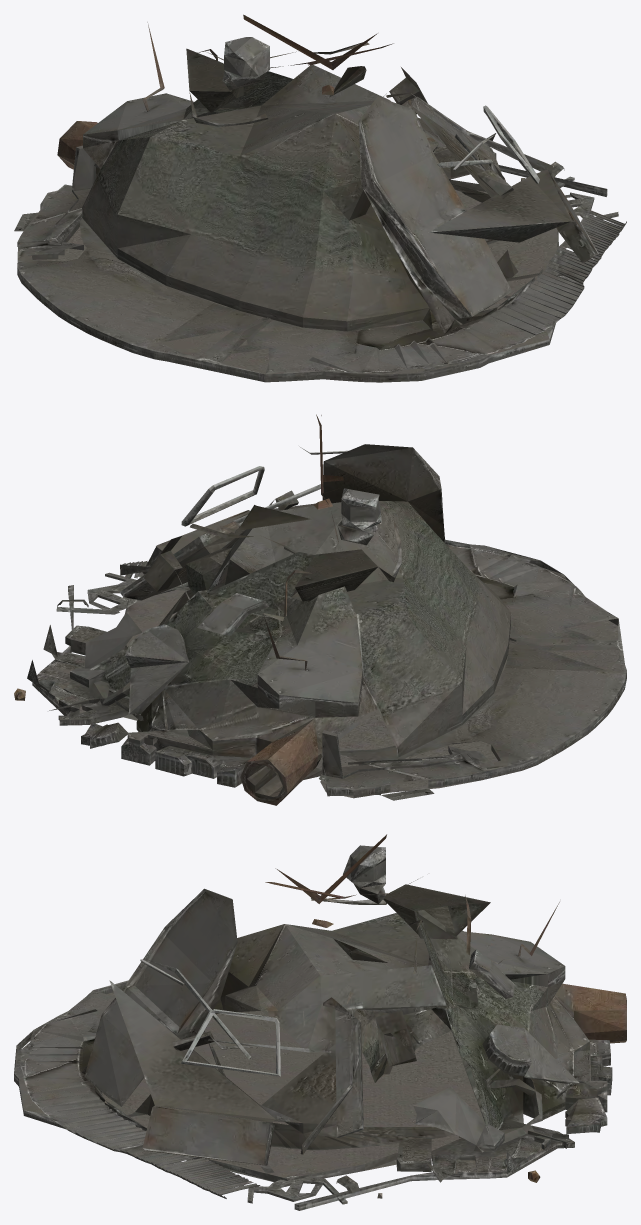
The model's file is debris_LOD0.glb.
The picture shows the model from 3 angles, top to bottom: view 1: azimuth 30°, elevation 25°; view 2: azimuth 150°, elevation 25°; view 3: azimuth 270°, elevation 25°; orthographic projection.
Parts seen in each view (by area): view 1: debris_LOD0; view 2: debris_LOD0; view 3: debris_LOD0.
Boxes of the visible parts, x1,y1,x2,y2 form: debris_LOD0: [14, 14, 626, 382]; debris_LOD0: [14, 414, 626, 805]; debris_LOD0: [14, 834, 626, 1210].
Bounding box in the file's own units: 0.9641 × 0.4126 × 0.97.
Materials: 1 (1 with a texture image).
